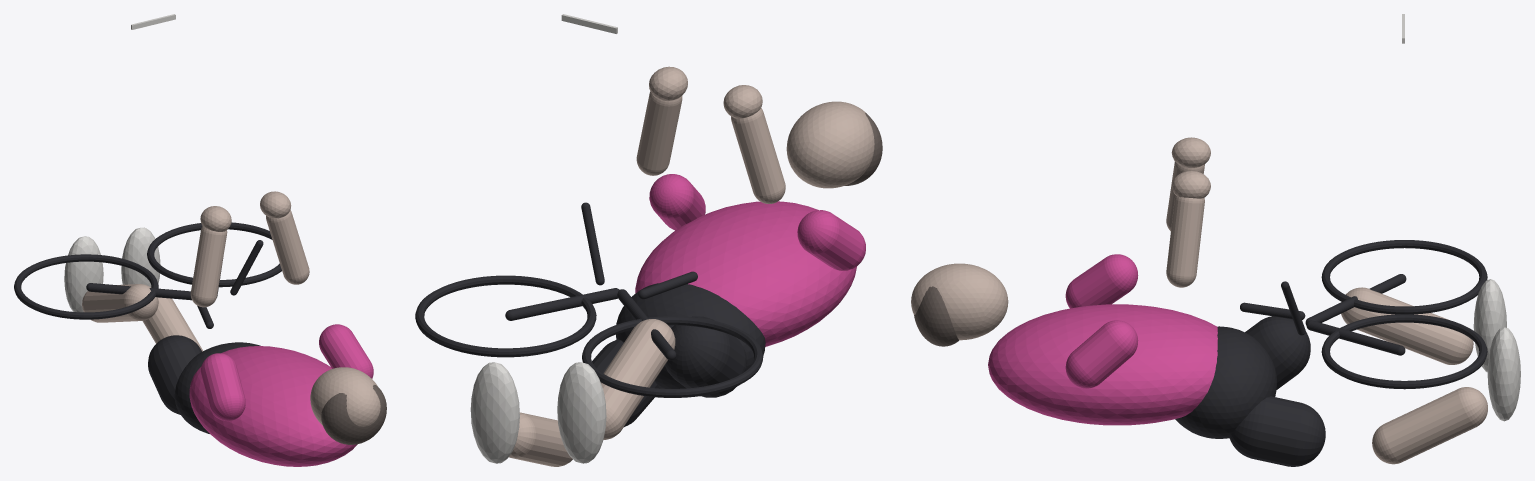
Rendered from athlete-aero.glb.
3 views of the same model, side by side, from view 1: azimuth 30°, elevation 25°; view 2: azimuth 150°, elevation 25°; view 3: azimuth 270°, elevation 25° (orthographic). The views are drawn at different scales.
Parts seen in each view (by area): view 1: GARMENT_TORSO, BODY_HEAD, BIKE_WHEEL_-0.38, GARMENT_SLEEVE_L, GARMENT_BIB_LEG_L, BODY_FOREARM_L, BODY_HAIR, BODY_FOREARM_R, SHOE_L, BODY_CALF_L, GARMENT_SLEEVE_R, BIKE_WHEEL_0.38 (+7 smaller); view 2: GARMENT_TORSO, BODY_HEAD, BODY_CALF_L, GARMENT_BIB_LEG_L, GARMENT_BIB_HIPS, SHOE_R, SHOE_L, BIKE_WHEEL_0.38, BIKE_WHEEL_-0.38, BODY_FOREARM_L, GARMENT_SLEEVE_L, BODY_FOREARM_R (+10 smaller); view 3: GARMENT_TORSO, GARMENT_BIB_HIPS, GARMENT_BIB_LEG_R, BODY_CALF_R, BODY_HEAD, BODY_CALF_L, BIKE_WHEEL_0.38, GARMENT_SLEEVE_R, BIKE_WHEEL_-0.38, BODY_FOREARM_R, GARMENT_SLEEVE_L, GARMENT_BIB_LEG_L (+7 smaller).
Part boxes in pixels (<box>): GARMENT_TORSO: <box>189,346,357,466</box>; BODY_HEAD: <box>310,367,380,426</box>; BIKE_WHEEL_-0.38: <box>14,254,158,319</box>; GARMENT_SLEEVE_L: <box>201,353,245,421</box>; GARMENT_BIB_LEG_L: <box>148,335,202,414</box>; BODY_FOREARM_L: <box>190,226,227,307</box>; BODY_HAIR: <box>321,385,386,444</box>; BODY_FOREARM_R: <box>266,210,309,284</box>; SHOE_L: <box>64,236,103,312</box>; BODY_CALF_L: <box>82,284,158,322</box>; GARMENT_SLEEVE_R: <box>319,324,373,378</box>; BIKE_WHEEL_0.38: <box>147,222,281,287</box>; GARMENT_TORSO: <box>635,201,856,346</box>; BODY_HEAD: <box>786,101,874,188</box>; BODY_CALF_L: <box>600,319,675,439</box>; GARMENT_BIB_LEG_L: <box>665,316,746,397</box>; GARMENT_BIB_HIPS: <box>616,283,765,396</box>; SHOE_R: <box>470,362,519,463</box>; SHOE_L: <box>557,362,606,463</box>; BIKE_WHEEL_0.38: <box>415,275,596,357</box>; BIKE_WHEEL_-0.38: <box>582,316,763,397</box>; BODY_FOREARM_L: <box>731,108,785,203</box>; GARMENT_SLEEVE_L: <box>797,210,865,270</box>; BODY_FOREARM_R: <box>636,91,682,175</box>; GARMENT_TORSO: <box>988,304,1217,425</box>; GARMENT_BIB_HIPS: <box>1175,326,1276,438</box>; GARMENT_BIB_LEG_R: <box>1229,396,1325,466</box>; BODY_CALF_R: <box>1372,387,1487,464</box>; BODY_HEAD: <box>911,263,1008,340</box>; BODY_CALF_L: <box>1341,287,1473,364</box>; BIKE_WHEEL_0.38: <box>1321,314,1487,389</box>; GARMENT_SLEEVE_R: <box>1065,320,1138,388</box>; BIKE_WHEEL_-0.38: <box>1321,240,1487,314</box>; BODY_FOREARM_R: <box>1166,195,1204,287</box>; GARMENT_SLEEVE_L: <box>1065,254,1138,308</box>; GARMENT_BIB_LEG_L: <box>1245,316,1310,389</box>.
Bounding box in the file's own units: 1.48 × 2 × 2.63.
